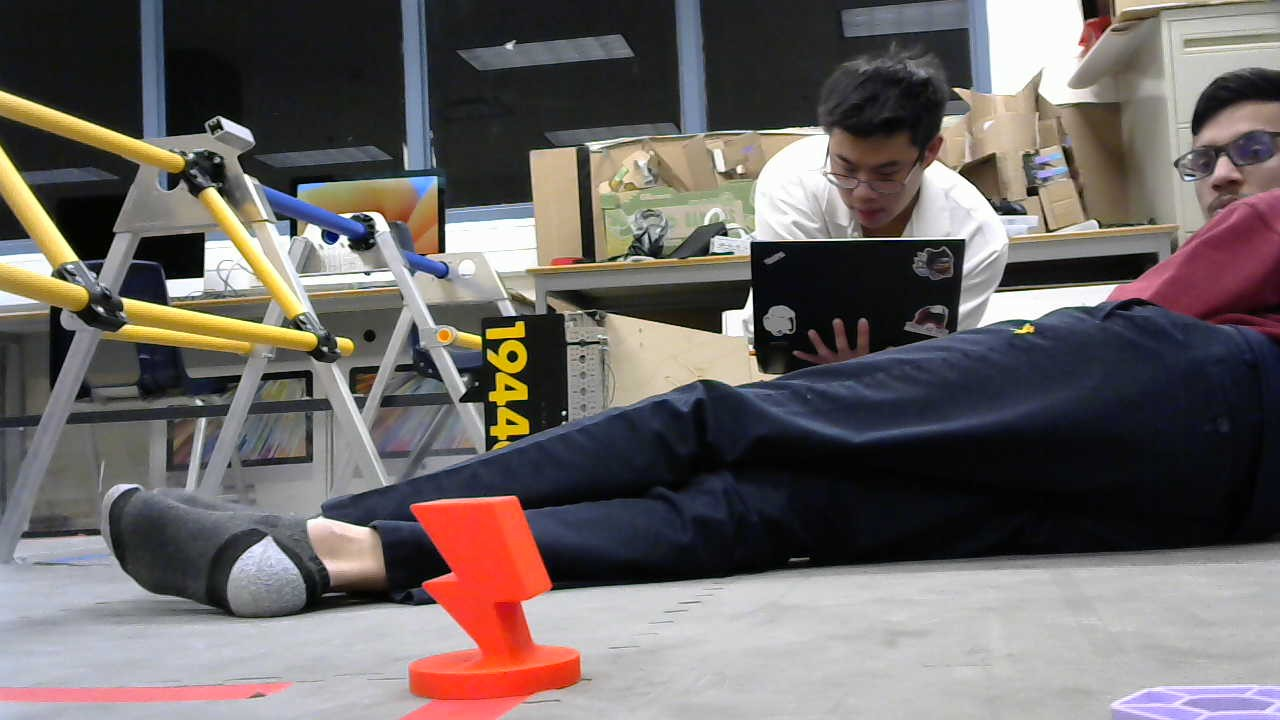redobject: (401, 493, 582, 701)
